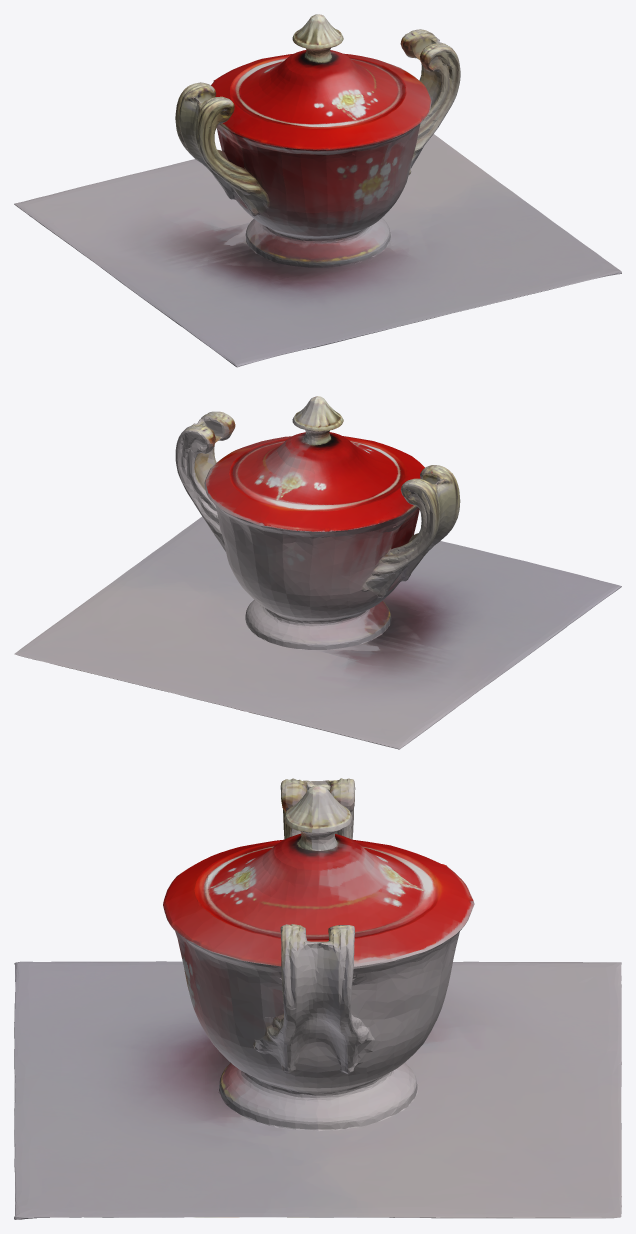
File: 洋瓷红地梅花纹糖罐.glb
3 renders of one model, top to bottom at view 1: azimuth 30°, elevation 25°; view 2: azimuth 150°, elevation 25°; view 3: azimuth 270°, elevation 25°, orthographic. The views are drawn at different scales.
Parts seen in each view (by area): view 1: world; view 2: world; view 3: world.
Part boxes in pixels (left/top/right/bottom): world: left=14, top=14, right=621, bottom=367; world: left=14, top=396, right=621, bottom=749; world: left=14, top=778, right=621, bottom=1219.
Bounding box in the file's own units: 1 × 0.5557 × 1.
1 material, 1 textured.
